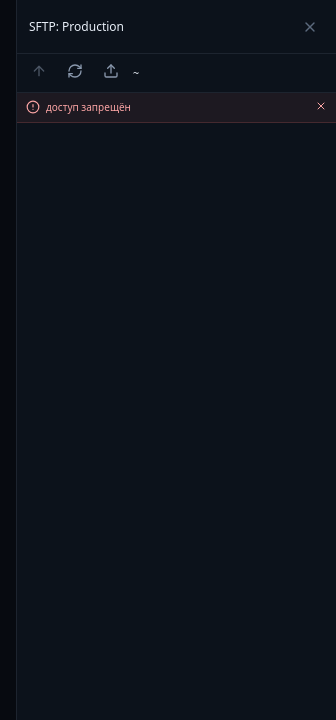
Test case: SFTPPanel › показывает и закрывает ошибку загрузки
Expected: the text "доступ запрещён" is shown, [46,100,131,114]
Step 1. Click the button named "Закрыть" → click(321, 108), box [315,100,327,115]
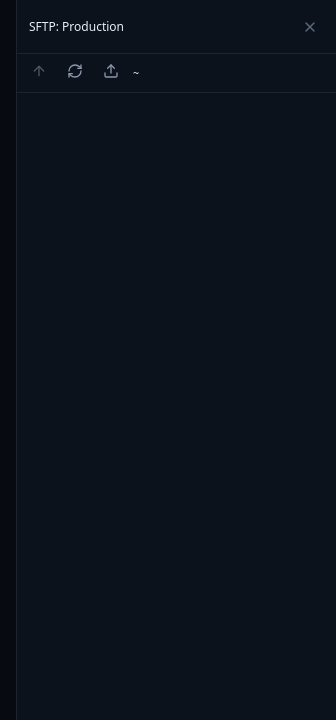
Now the text "доступ запрещён" is gone
